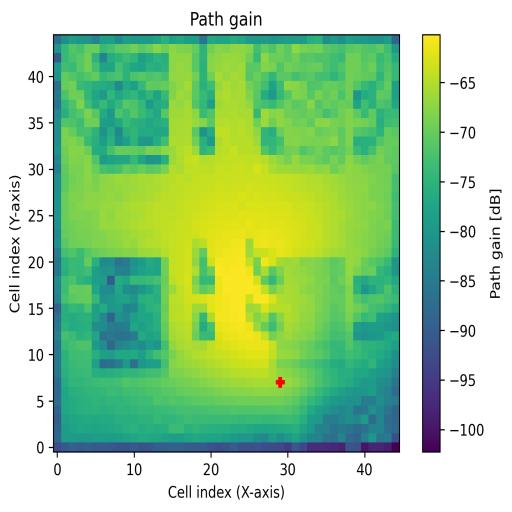Concrete: (277, 57, 368, 164)
Glass: (92, 54, 168, 175)
Metal: (276, 257, 346, 368)
Wood: (92, 257, 168, 369)
